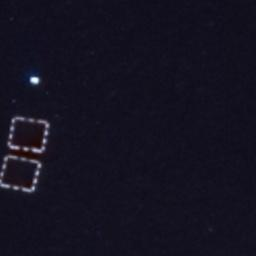square_solid: (6, 114, 50, 156), (1, 152, 43, 196)
